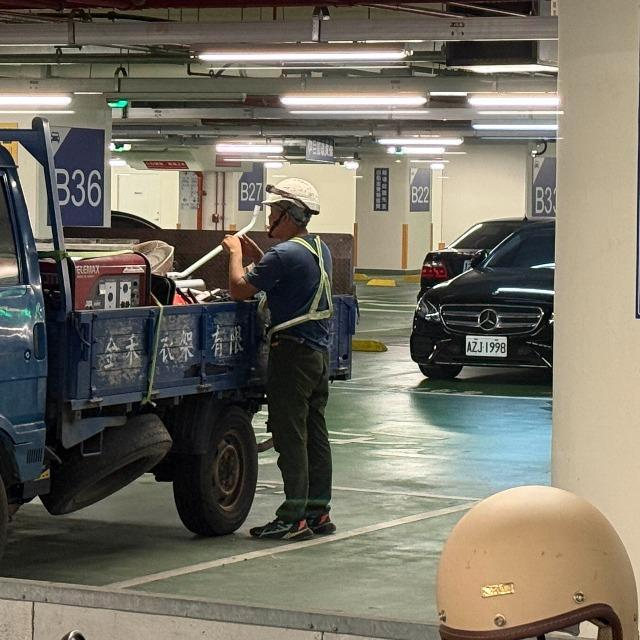Helmet: (262, 175, 324, 237)
Vest: (262, 236, 343, 351)
